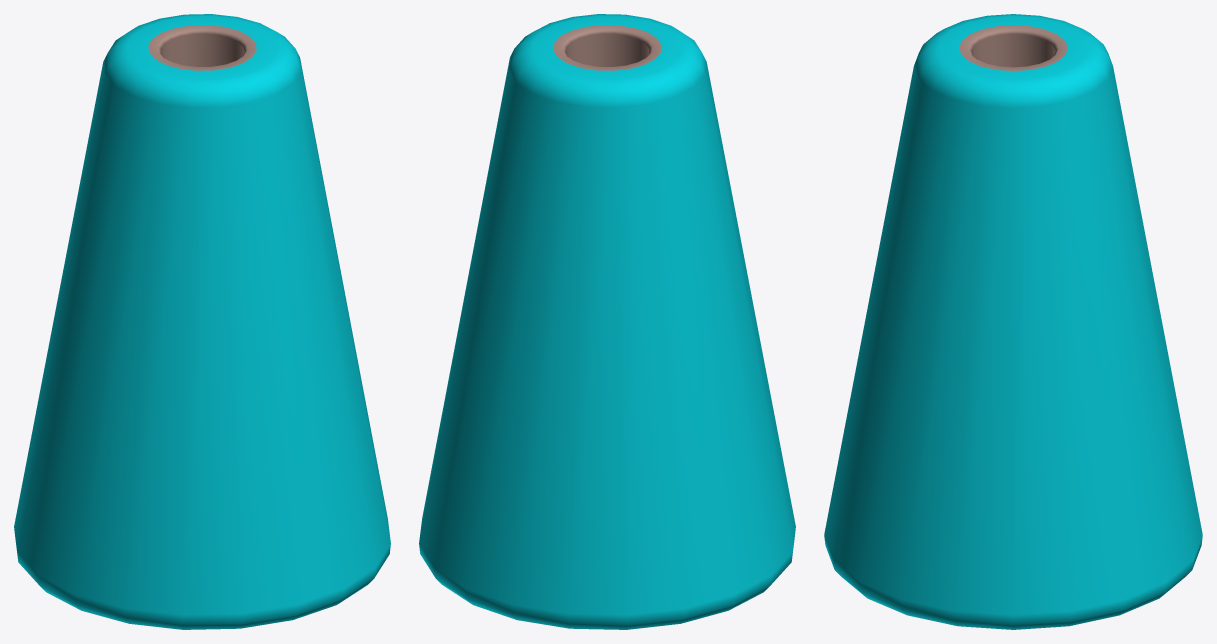
File: Public_19_Skein_of_thread_2.glb
The picture shows the model from 3 angles, left to right: view 1: azimuth 30°, elevation 25°; view 2: azimuth 150°, elevation 25°; view 3: azimuth 270°, elevation 25°; orthographic projection.
Parts seen in each view (by area): view 1: Public_19_Skein_of_thread_2; view 2: Public_19_Skein_of_thread_2; view 3: Public_19_Skein_of_thread_2.
Boxes of the visible parts, x1,y1,x2,y2 form: Public_19_Skein_of_thread_2: (14,14,390,629); Public_19_Skein_of_thread_2: (419,14,795,629); Public_19_Skein_of_thread_2: (824,14,1202,629).
Bounding box in the file's own units: 0.3044 × 0.4513 × 0.3044.
Materials: 1 (1 with a texture image).
